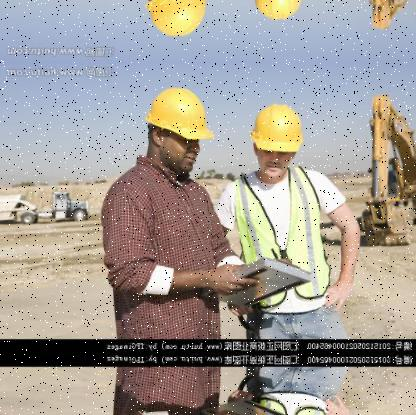helmet: (137, 75, 217, 179), (247, 92, 310, 182), (136, 0, 217, 48), (247, 0, 311, 31)
